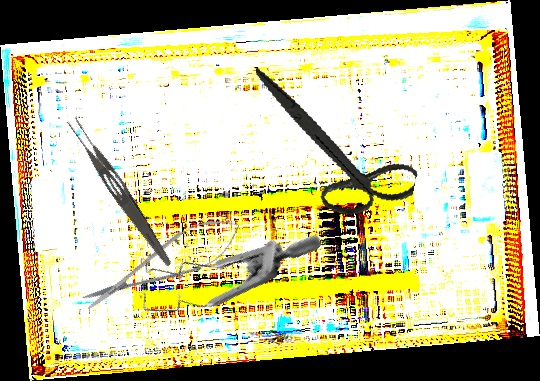Dressing Forceps: (62, 113, 180, 270)
Iris Scissors: (230, 65, 433, 228)
Micro Scissor: (75, 205, 249, 324)
Speculum: (117, 160, 325, 370)
